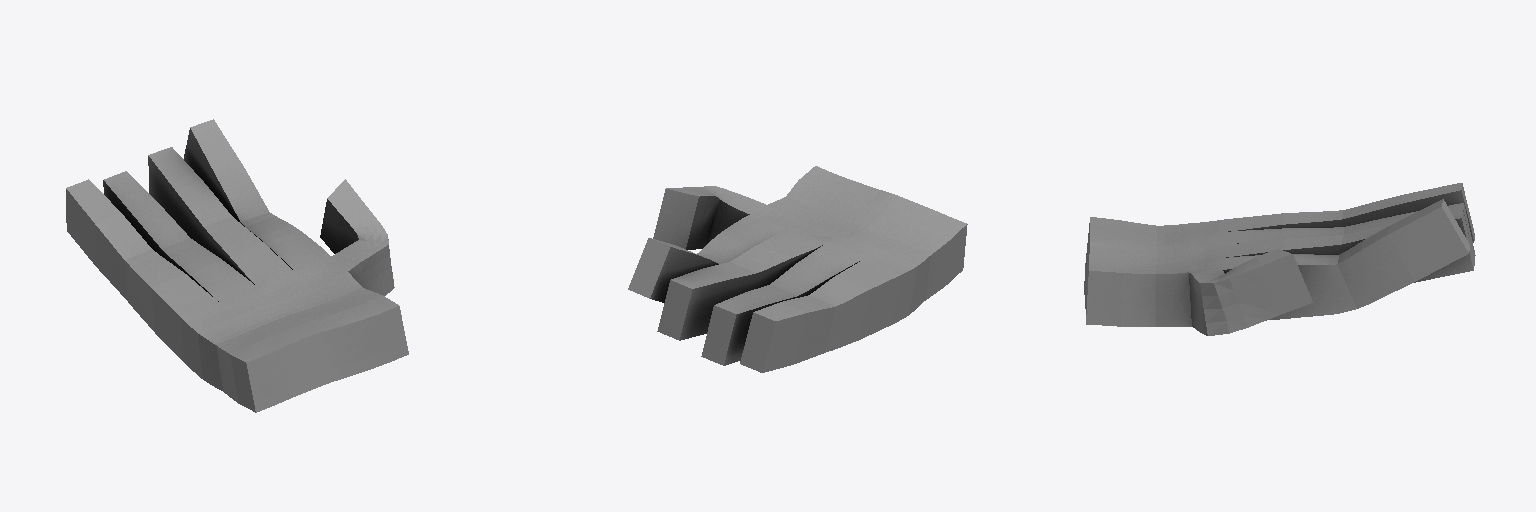
The picture shows the model from 3 angles: view 1: azimuth 30°, elevation 25°; view 2: azimuth 150°, elevation 25°; view 3: azimuth 270°, elevation 25°; orthographic projection.
Visible parts, largest first — view 1: Cube.001_Cube.003; view 2: Cube.001_Cube.003; view 3: Cube.001_Cube.003.
Boxes of the visible parts, x1=… form: Cube.001_Cube.003: x1=66, y1=119, x2=408, y2=412; Cube.001_Cube.003: x1=628, y1=166, x2=967, y2=372; Cube.001_Cube.003: x1=1084, y1=183, x2=1475, y2=335.
Size of the model in its own units: 0.6828 by 0.4252 by 1.1.
1 materials, 1 textured.